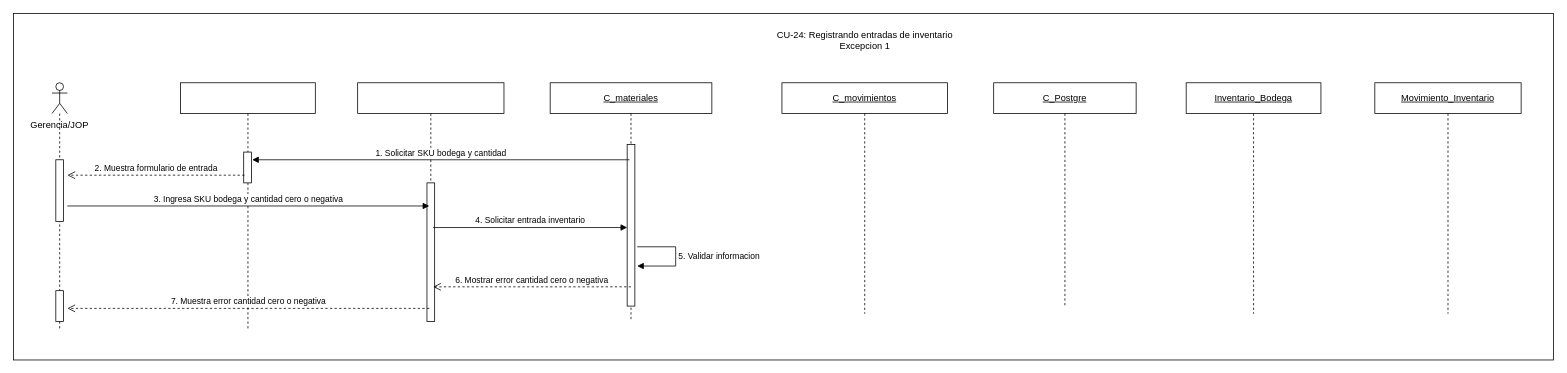
This 1567x373 diagram has some shape labels left out. Each missing label, with the box of its shape:
V_Movimientos: (180, 82, 315, 329)
V_Registrar Entrada: (357, 82, 504, 321)
